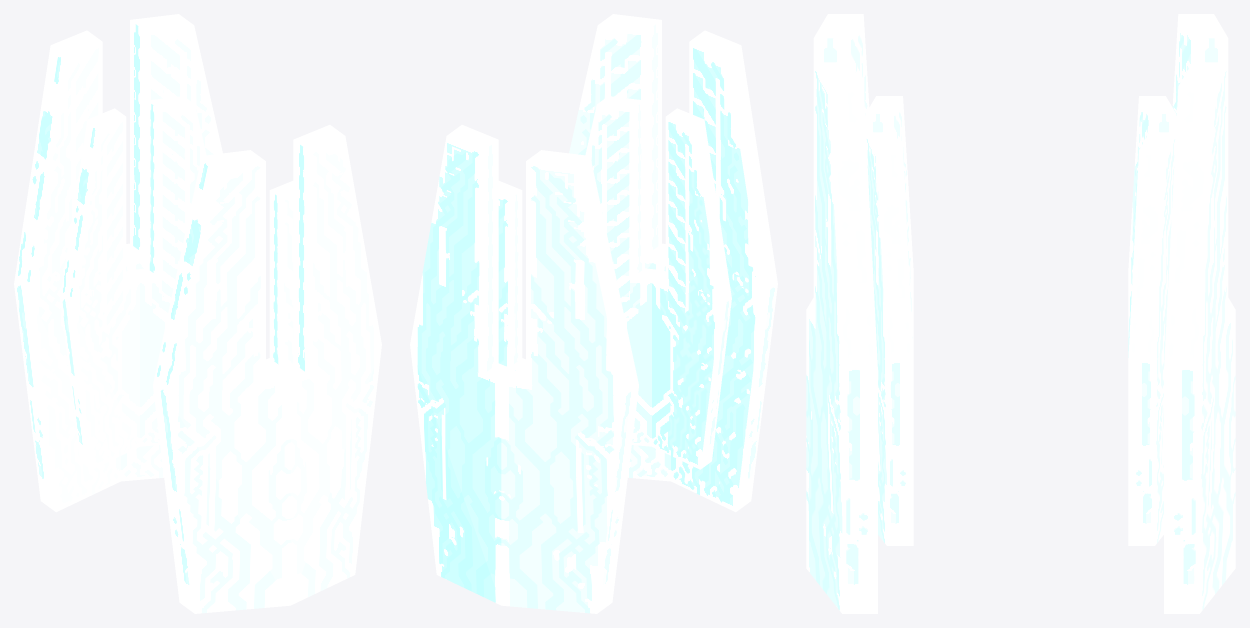
File: wavefront.fbx
3 renders of one model, left to right at view 1: azimuth 30°, elevation 25°; view 2: azimuth 150°, elevation 25°; view 3: azimuth 270°, elevation 25°, orthographic. The views are drawn at different scales.
Visible parts, largest first — view 1: node-outer, node-inner; view 2: node-outer, node-inner; view 3: node-outer, node-inner.
Boxes of the visible parts, bbox=[...] form: node-outer: bbox=[14, 14, 381, 613]; node-inner: bbox=[60, 96, 293, 469]; node-outer: bbox=[410, 14, 777, 613]; node-inner: bbox=[498, 96, 731, 469]; node-outer: bbox=[806, 14, 1235, 613]; node-inner: bbox=[865, 96, 1176, 545].
Size of the model in its own units: 200 by 400 by 300.
